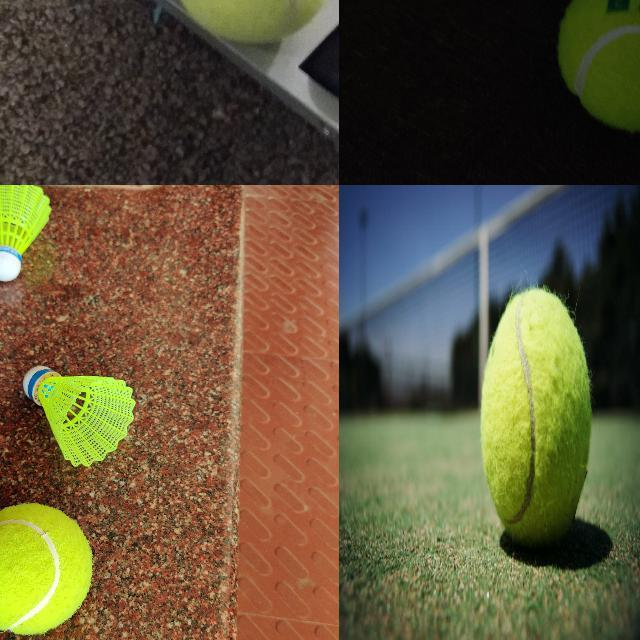tennis-ball: (480, 288, 592, 545), (0, 502, 93, 637), (556, 0, 639, 132), (167, 0, 338, 45)
